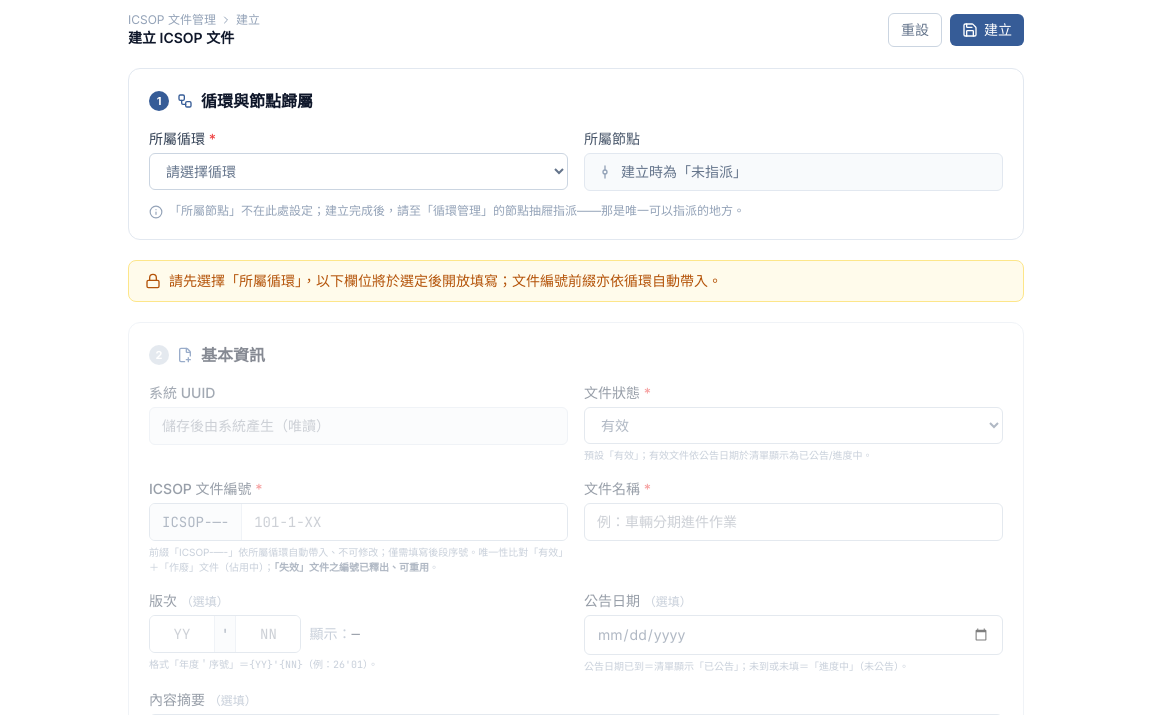
Scenario: F011 AC-D2～AC-D5（建立頁）：版次輸入互動，逐案與編輯頁相同 › TS-F010-D2-002 年度框依序鍵入 `2`、`6` → value 依序為 "2"、"26"
Type "2" into the field named "版次年度". click: (182, 634)
box: [150,616,214,652]
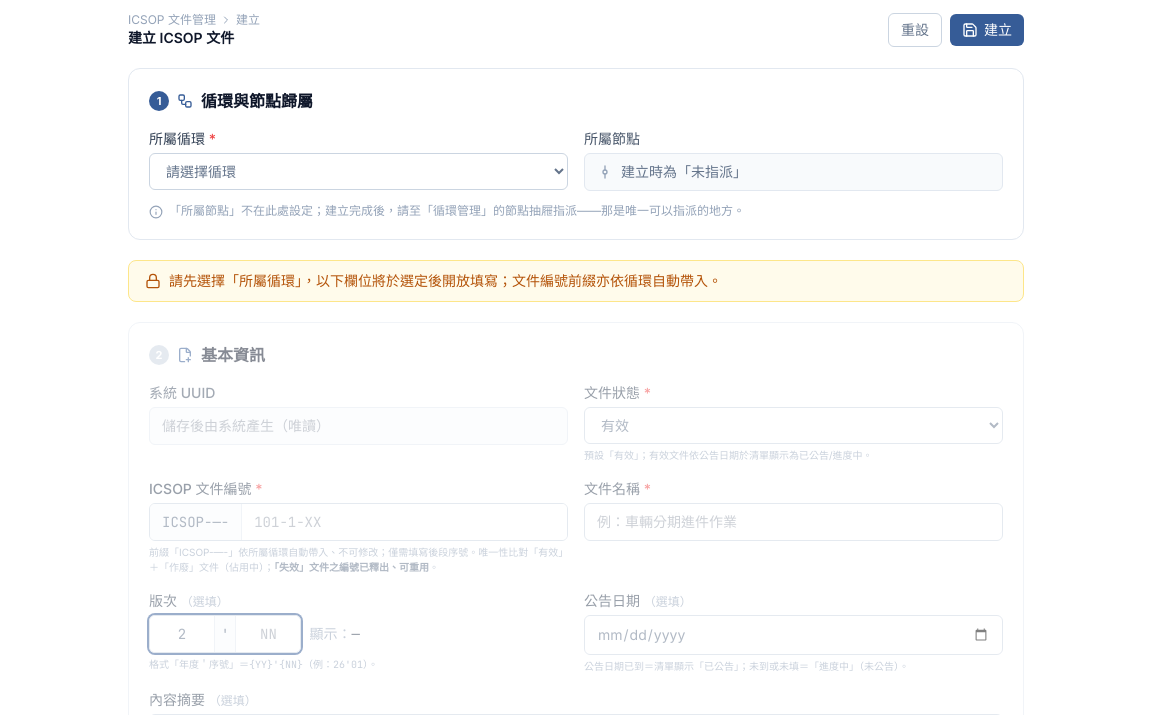
Type "6" into the field named "版次年度". click: (182, 634)
box: [150,616,214,652]
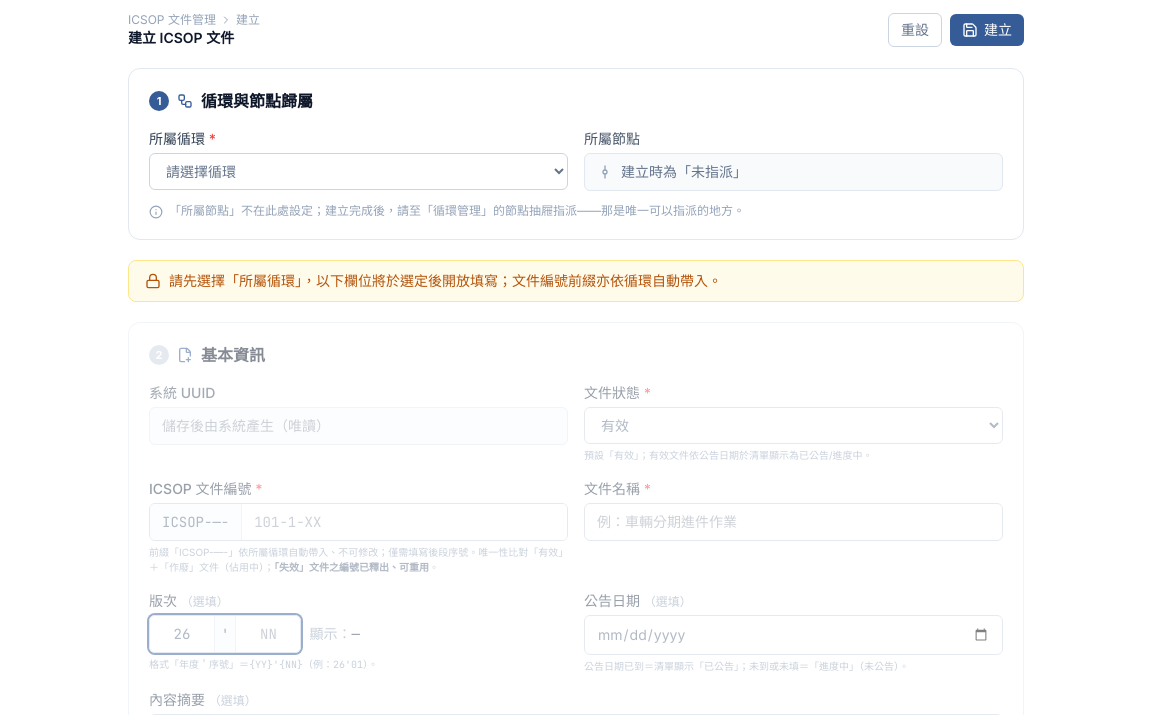
Expected: the field named "版次年度" holds "26", [150,616,214,652]
